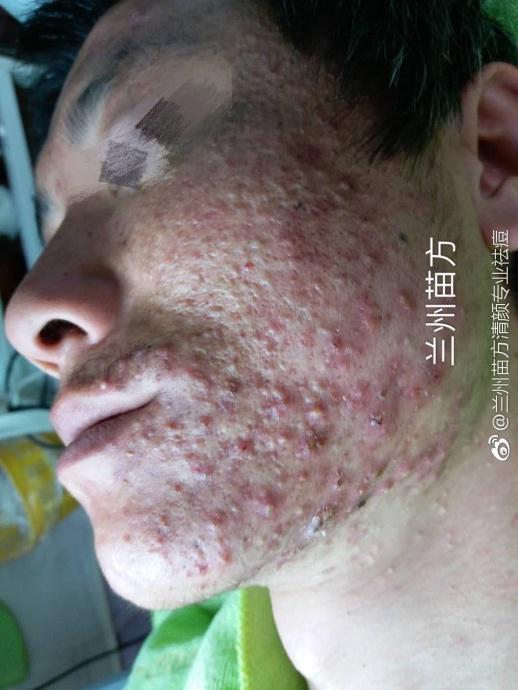fore: (182, 539, 219, 590), (320, 256, 357, 305), (277, 273, 320, 314), (179, 454, 237, 484), (259, 226, 312, 258), (319, 330, 355, 375), (363, 400, 397, 447), (146, 507, 179, 554), (254, 486, 285, 536), (146, 412, 198, 441), (198, 181, 247, 210), (340, 241, 387, 271), (413, 362, 452, 397), (228, 427, 271, 458), (291, 196, 349, 218), (218, 342, 254, 377), (296, 313, 328, 351), (224, 492, 257, 528), (329, 374, 366, 406), (189, 411, 225, 443), (331, 174, 369, 203), (256, 379, 288, 412), (181, 226, 215, 255), (195, 509, 228, 538), (386, 291, 420, 319), (211, 533, 236, 571), (354, 296, 383, 328), (181, 261, 211, 291), (211, 218, 245, 244), (247, 131, 279, 158), (257, 314, 286, 343), (89, 369, 121, 395), (276, 158, 305, 186), (179, 346, 207, 374), (354, 480, 383, 507), (455, 394, 481, 424), (299, 438, 334, 460), (280, 463, 312, 487), (315, 108, 348, 131), (195, 377, 224, 403), (294, 134, 319, 163), (260, 426, 291, 449), (297, 509, 328, 532), (375, 371, 404, 394), (421, 447, 446, 473), (227, 248, 248, 278), (392, 452, 409, 486), (326, 469, 348, 495), (158, 336, 179, 362), (306, 392, 326, 417), (207, 288, 233, 307), (190, 322, 210, 345), (253, 296, 274, 314)
